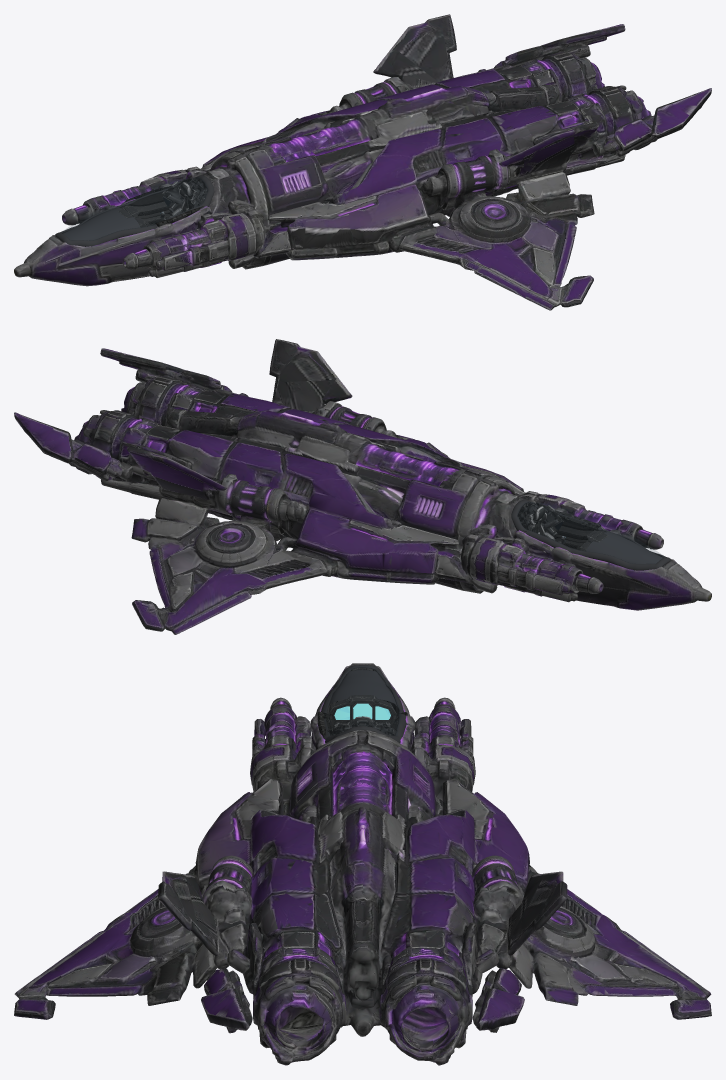
The model's file is vortex.glb.
3 views of the same model, one above another, from view 1: azimuth 30°, elevation 25°; view 2: azimuth 150°, elevation 25°; view 3: azimuth 270°, elevation 25° (orthographic). The views are drawn at different scales.
Parts seen in each view (by area): view 1: vortex_game_hull, vortex_game_glass, vortex_game_canopy_frame, vortex_game_hood, vortex_game_cockpit, vortex_game_tub; view 2: vortex_game_hull, vortex_game_glass, vortex_game_canopy_frame, vortex_game_hood, vortex_game_cockpit, vortex_game_tub; view 3: vortex_game_hull, vortex_game_glass, vortex_game_console, vortex_game_hood, vortex_game_canopy_frame.
Boxes of the visible parts, x1,y1,x2,y2 form: vortex_game_hull: [14, 14, 711, 310]; vortex_game_glass: [61, 177, 207, 240]; vortex_game_canopy_frame: [55, 175, 214, 246]; vortex_game_hood: [63, 207, 140, 240]; vortex_game_cockpit: [160, 178, 207, 219]; vortex_game_tub: [62, 179, 205, 233]; vortex_game_hull: [14, 339, 711, 634]; vortex_game_glass: [517, 502, 664, 563]; vortex_game_canopy_frame: [511, 499, 670, 570]; vortex_game_hood: [586, 532, 662, 563]; vortex_game_cockpit: [518, 502, 565, 544]; vortex_game_tub: [518, 503, 601, 550]; vortex_game_hull: [14, 663, 711, 1065]; vortex_game_glass: [324, 666, 401, 735]; vortex_game_console: [328, 695, 396, 732]; vortex_game_hood: [329, 669, 397, 706]; vortex_game_canopy_frame: [321, 665, 406, 743].
Bounding box in the file's own units: 1.9 × 0.3489 × 1.3.
Materials: 9 (5 with a texture image).
